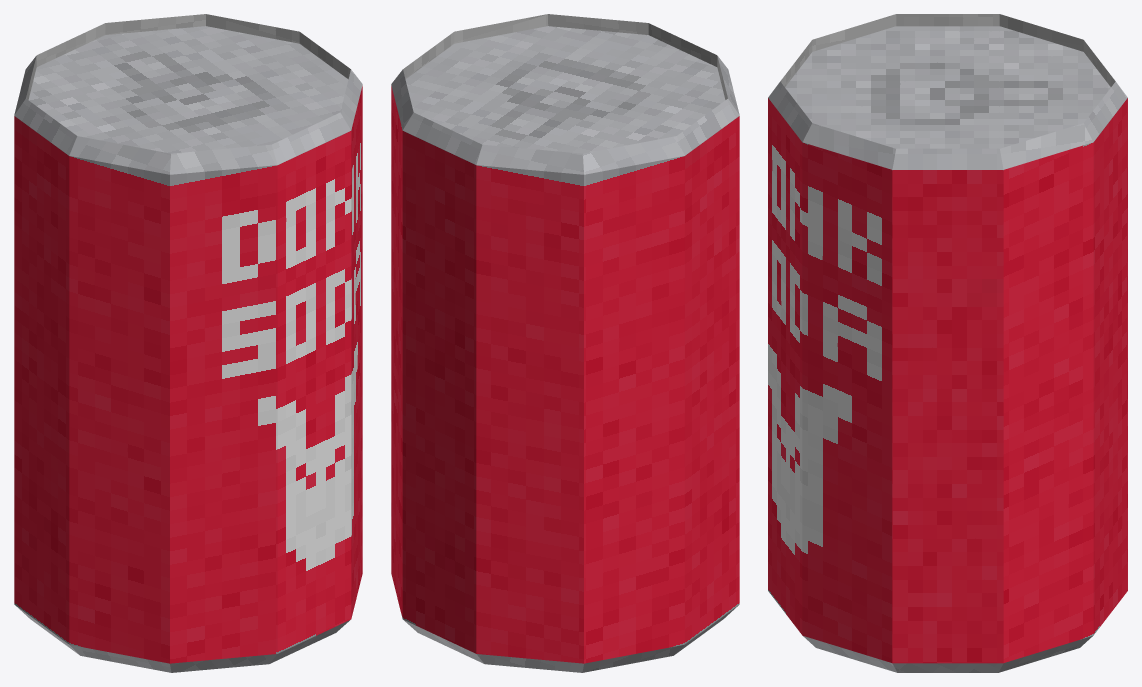
The model's file is soda.glb.
The picture shows the model from 3 angles, left to right: view 1: azimuth 30°, elevation 25°; view 2: azimuth 150°, elevation 25°; view 3: azimuth 270°, elevation 25°; orthographic projection.
Parts seen in each view (by area): view 1: Cylinder; view 2: Cylinder; view 3: Cylinder.
Part boxes in pixels (x1=…): Cylinder: x1=14, y1=14, x2=362, y2=672; Cylinder: x1=391, y1=14, x2=739, y2=672; Cylinder: x1=768, y1=14, x2=1127, y2=672.
Size of the model in its own units: 0.6569 by 1.11 by 0.6907.
1 material, 1 textured.
